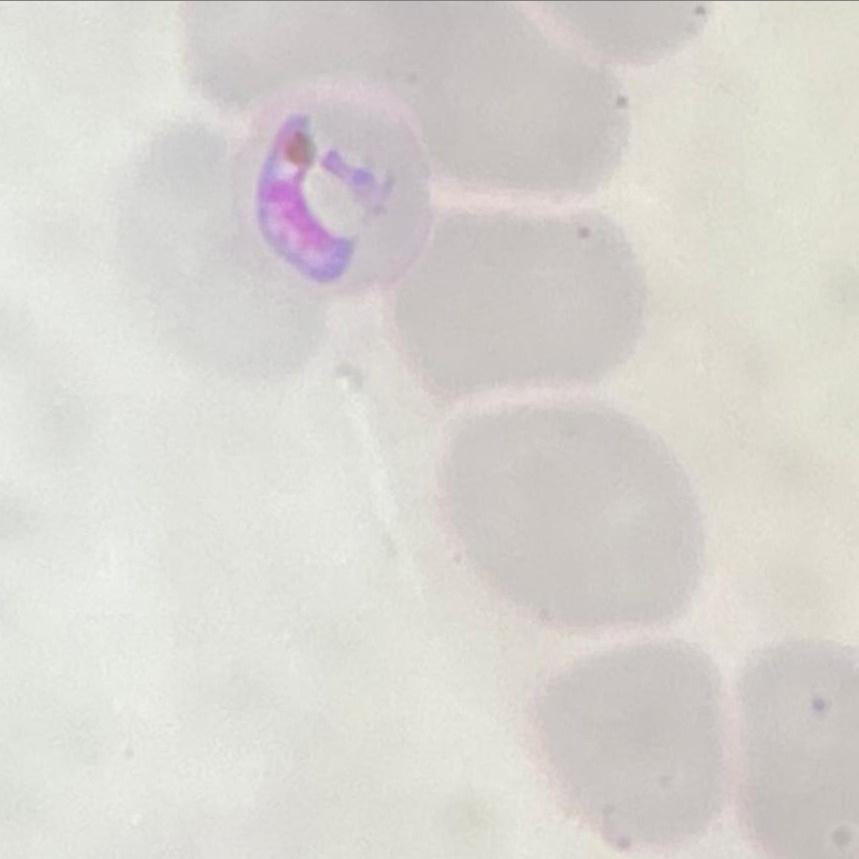Infected: (234, 87, 431, 296)
Uninfected: (428, 399, 703, 635), (122, 125, 333, 380), (388, 205, 643, 400), (536, 637, 741, 849)
